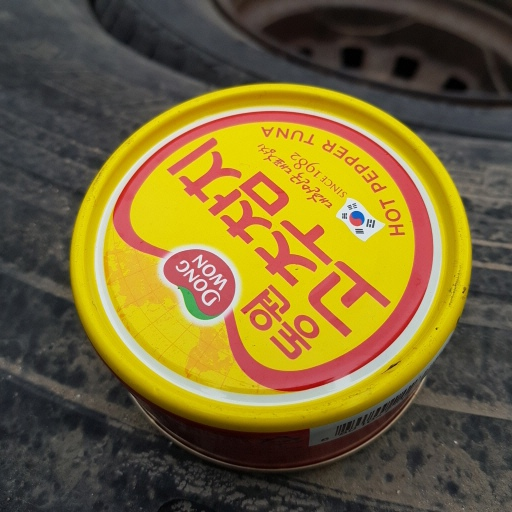Metal_1: (66, 79, 474, 469)
